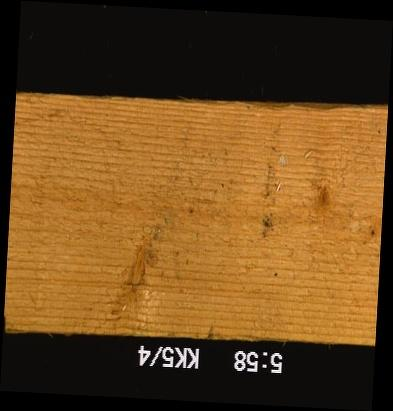small_knot: (305, 178, 336, 225), (184, 203, 198, 220), (365, 226, 380, 241)
